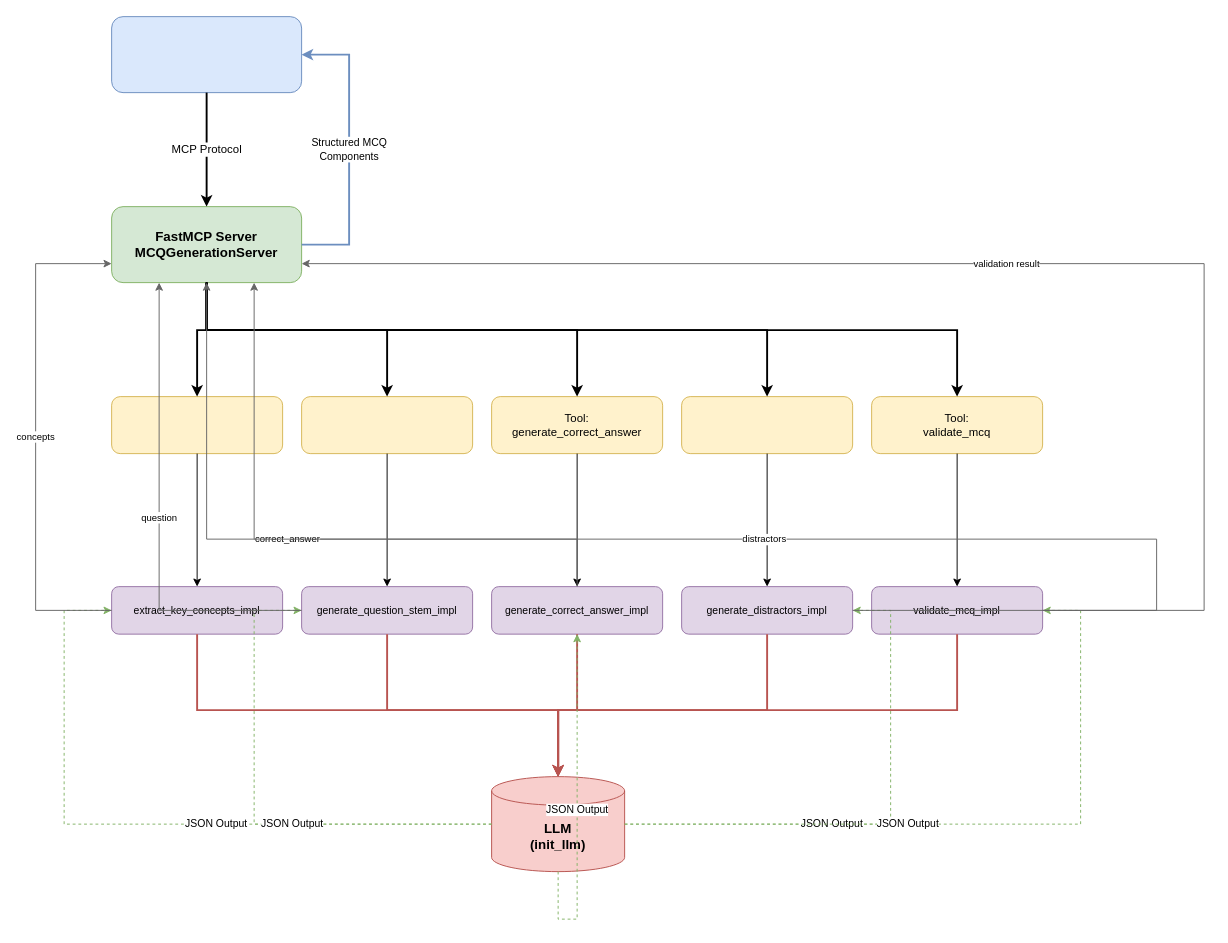
The diagram is 1228 pixels wide and 943 high, and some of its shapes have lost their labels. The box of each missing label's shape, as (x1, y1, x2, y2) in pixels:
Client / Agent (LangChain / LangGraph): (111, 16, 302, 93)
Tool: extract_key_concepts: (111, 396, 283, 454)
Tool: generate_distractors: (681, 396, 853, 454)
Tool: generate_question_stem: (301, 396, 473, 454)
